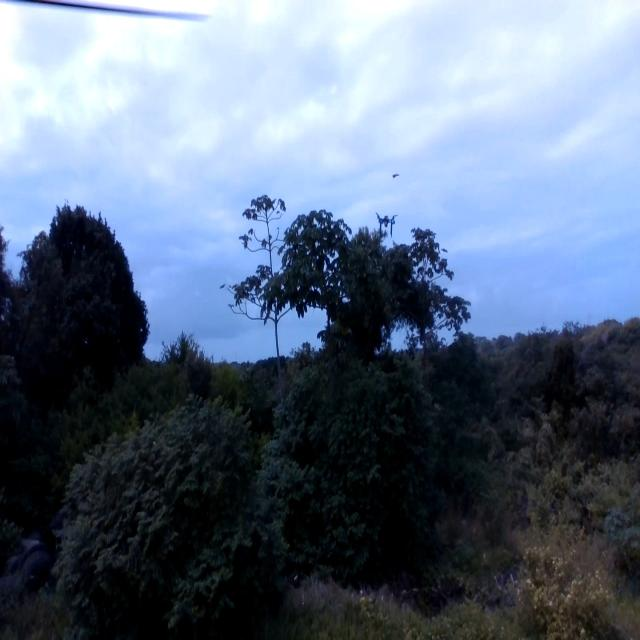-uav-: (372, 203, 401, 244)
